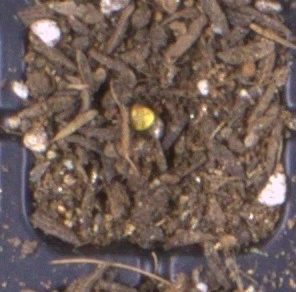chilli seed: (129, 102, 156, 131)
